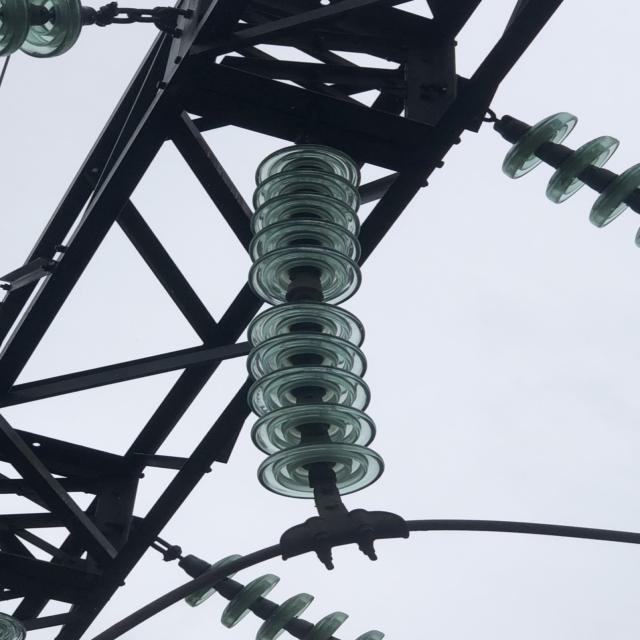正常电缆: (408, 508, 640, 556)
正常绝缘子: (230, 130, 392, 528), (482, 95, 640, 242), (176, 560, 387, 640), (0, 0, 100, 71)
绝缘子破损: (282, 279, 326, 300)
